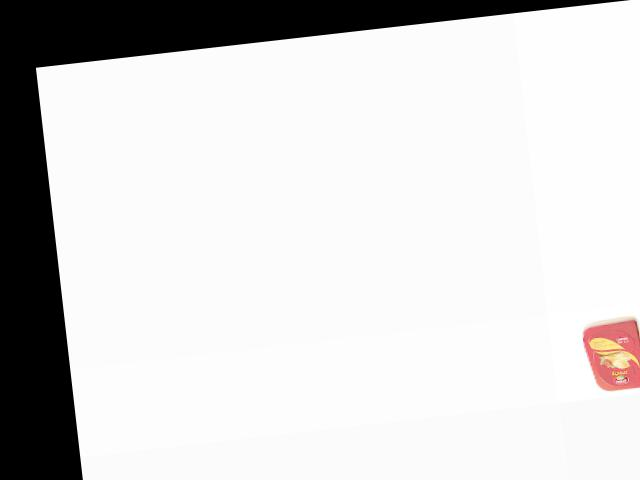cheese: (581, 315, 640, 397)
